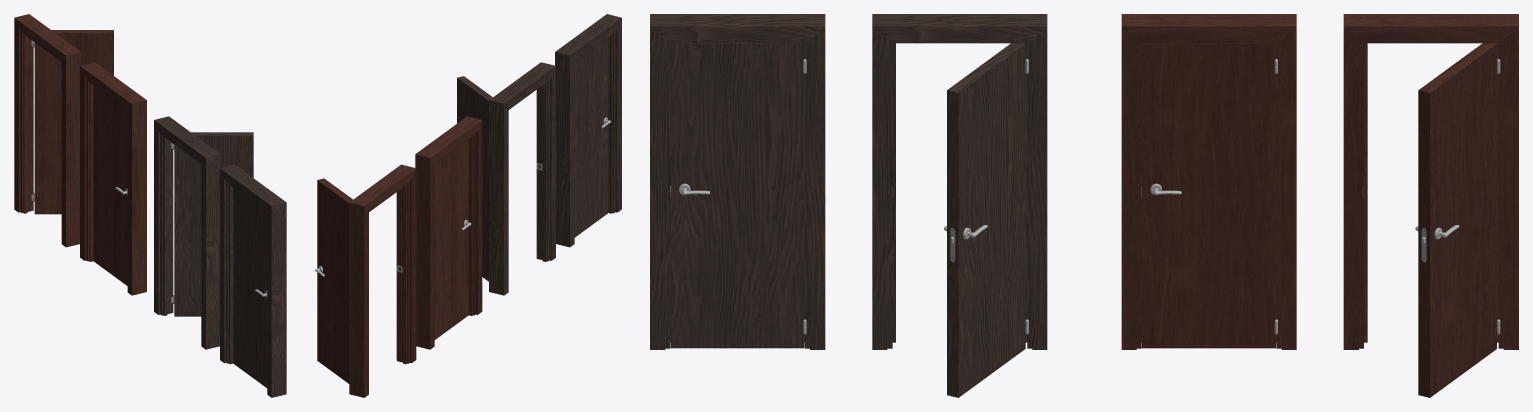
File: Doors.glb
3 renders of one model, left to right at view 1: azimuth 30°, elevation 25°; view 2: azimuth 150°, elevation 25°; view 3: azimuth 270°, elevation 25°, orthographic. The views are drawn at different scales.
Parts seen in each view (by area): view 1: D1-Frame_D1_0, D2-Frame_D2_0; view 2: D2-Frame_D2_0, D1-Frame_D1_0; view 3: D2-Frame_D2_0, D1-Frame_D1_0.
Part boxes in pixels (x1,y1,x2,y2): D1-Frame_D1_0: [154, 116, 286, 397]; D2-Frame_D2_0: [14, 14, 146, 295]; D2-Frame_D2_0: [315, 116, 482, 397]; D1-Frame_D1_0: [457, 14, 621, 295]; D2-Frame_D2_0: [1121, 14, 1518, 397]; D1-Frame_D1_0: [650, 14, 1047, 397].
Bounding box in the file's own units: 2.13 × 5.3 × 12.9.
Materials: 2 (2 with a texture image).
